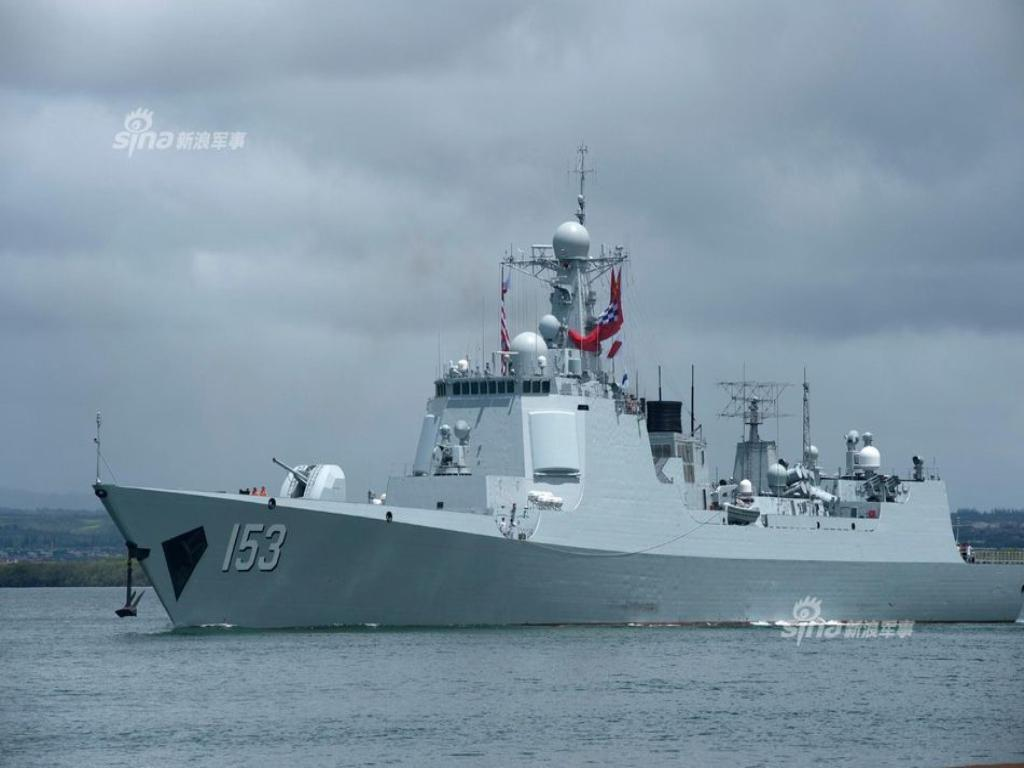Warship: (86, 145, 1018, 643)
